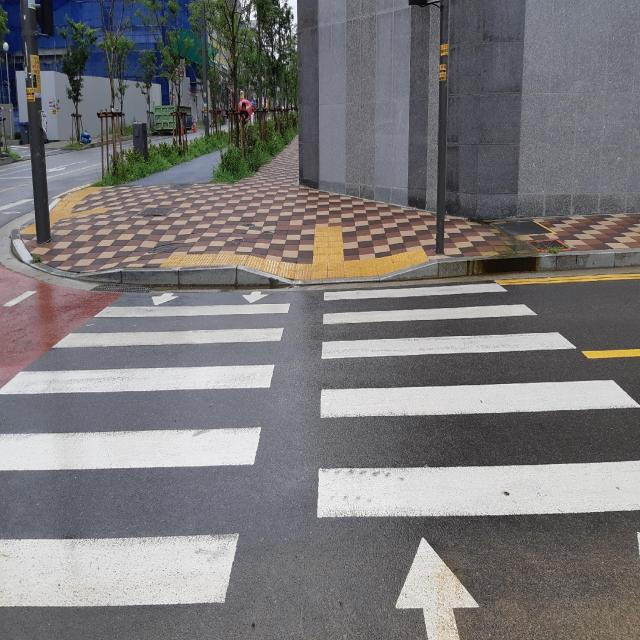횡단보도: (0, 280, 640, 640)
